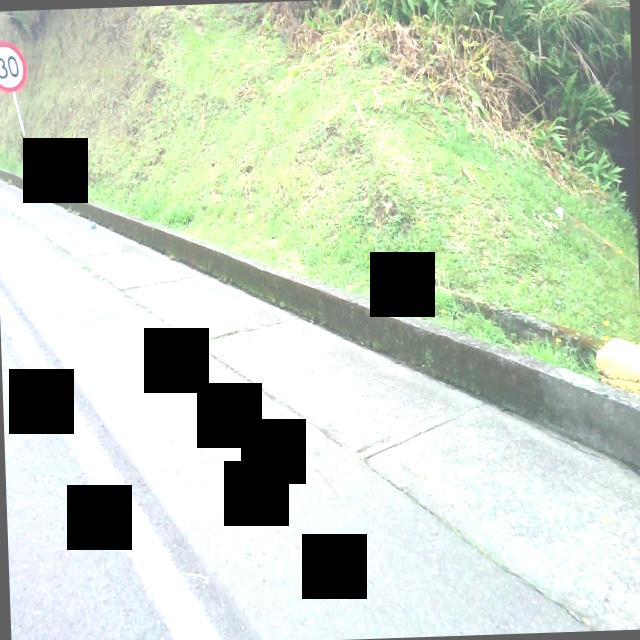DITCH: (0, 71, 640, 640), (0, 107, 640, 640), (0, 147, 640, 640)
